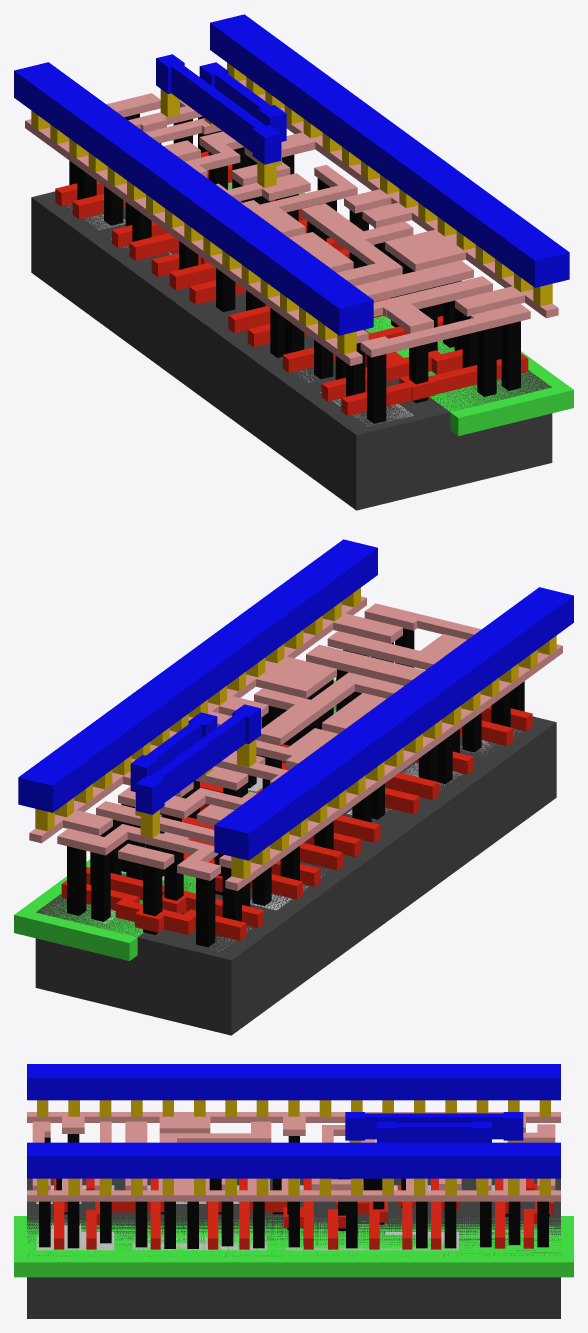
Rendered from sky130_fd_sc_hd__dlrbn_1.obj.
3 views of the same model, one above another, from view 1: azimuth 30°, elevation 25°; view 2: azimuth 150°, elevation 25°; view 3: azimuth 270°, elevation 25° (orthographic). The views are drawn at different scales.
Visible parts, largest first — view 1: metal1, subs, li, licon, poly, mcon, nwell; view 2: metal1, subs, li, licon, poly, mcon, nwell, diff; view 3: metal1, subs, nwell, li, licon, poly, mcon, tap.
Boxes of the visible parts, bbox=[...] form: metal1: bbox=[14, 14, 569, 335]; subs: bbox=[31, 182, 552, 510]; li: bbox=[25, 79, 558, 365]; licon: bbox=[69, 113, 520, 423]; poly: bbox=[55, 151, 528, 415]; mcon: bbox=[31, 62, 552, 353]; nwell: bbox=[228, 183, 573, 435]; metal1: bbox=[18, 539, 573, 860]; subs: bbox=[35, 705, 556, 1035]; li: bbox=[29, 596, 562, 890]; licon: bbox=[67, 628, 524, 947]; poly: bbox=[61, 706, 532, 940]; mcon: bbox=[35, 587, 556, 878]; nwell: bbox=[14, 679, 336, 960]; diff: bbox=[210, 729, 519, 951]; metal1: bbox=[27, 1064, 560, 1178]; subs: bbox=[27, 1178, 560, 1318]; nwell: bbox=[14, 1216, 573, 1277]; li: bbox=[27, 1112, 560, 1201]; licon: bbox=[39, 1134, 549, 1248]; poly: bbox=[53, 1178, 553, 1249]; mcon: bbox=[37, 1100, 550, 1195]; tap: bbox=[36, 1224, 551, 1250].
Bounding box in the file's own units: 3.2 × 2.74 × 8.2.
